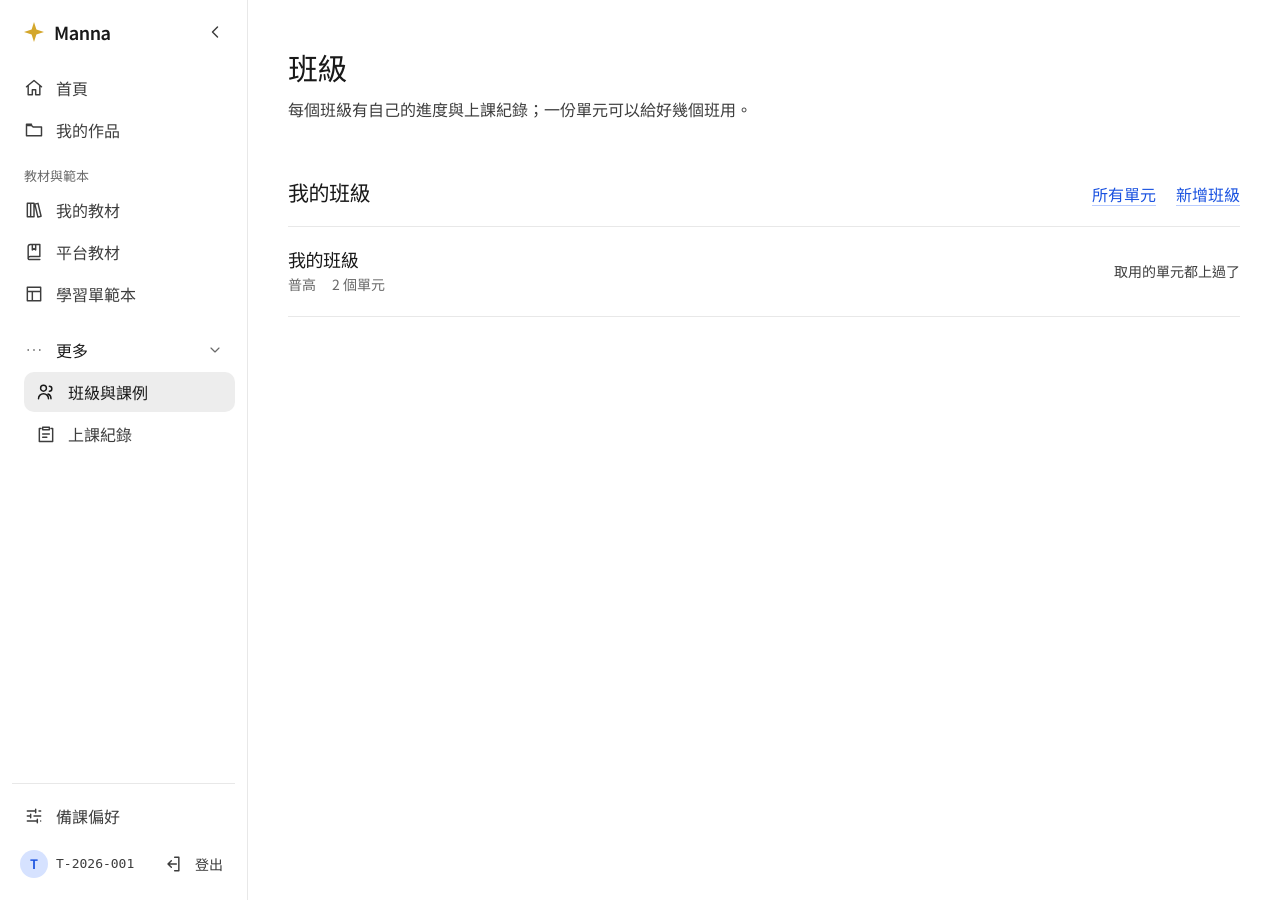
班級 (home) › shows legacy units under 「我的班級」 after the migration
The image size is (1280, 900).
Expected: the list item "2 個單元" is shown, [332, 274, 385, 296]
Click the link "我的班級": [323, 259] box [288, 246, 358, 272]
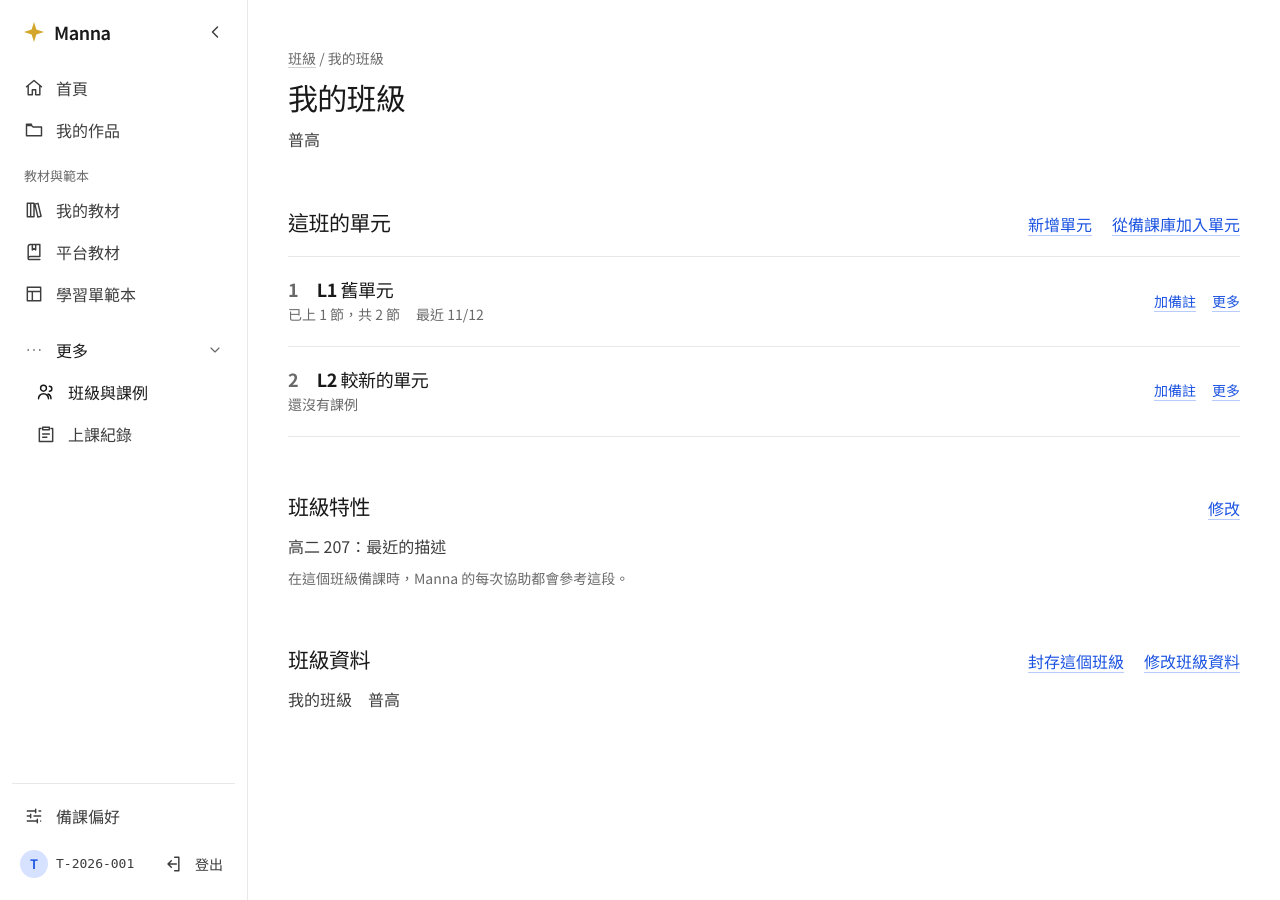
Result: the heading "我的班級" is shown at [288, 75, 405, 119]
Result: the list item "還沒有課例" is shown at [288, 394, 358, 416]
Result: the text "高二 207：最近的描述" is shown at [288, 534, 446, 558]
Click the button "修改": [1224, 508] box [1208, 496, 1240, 520]
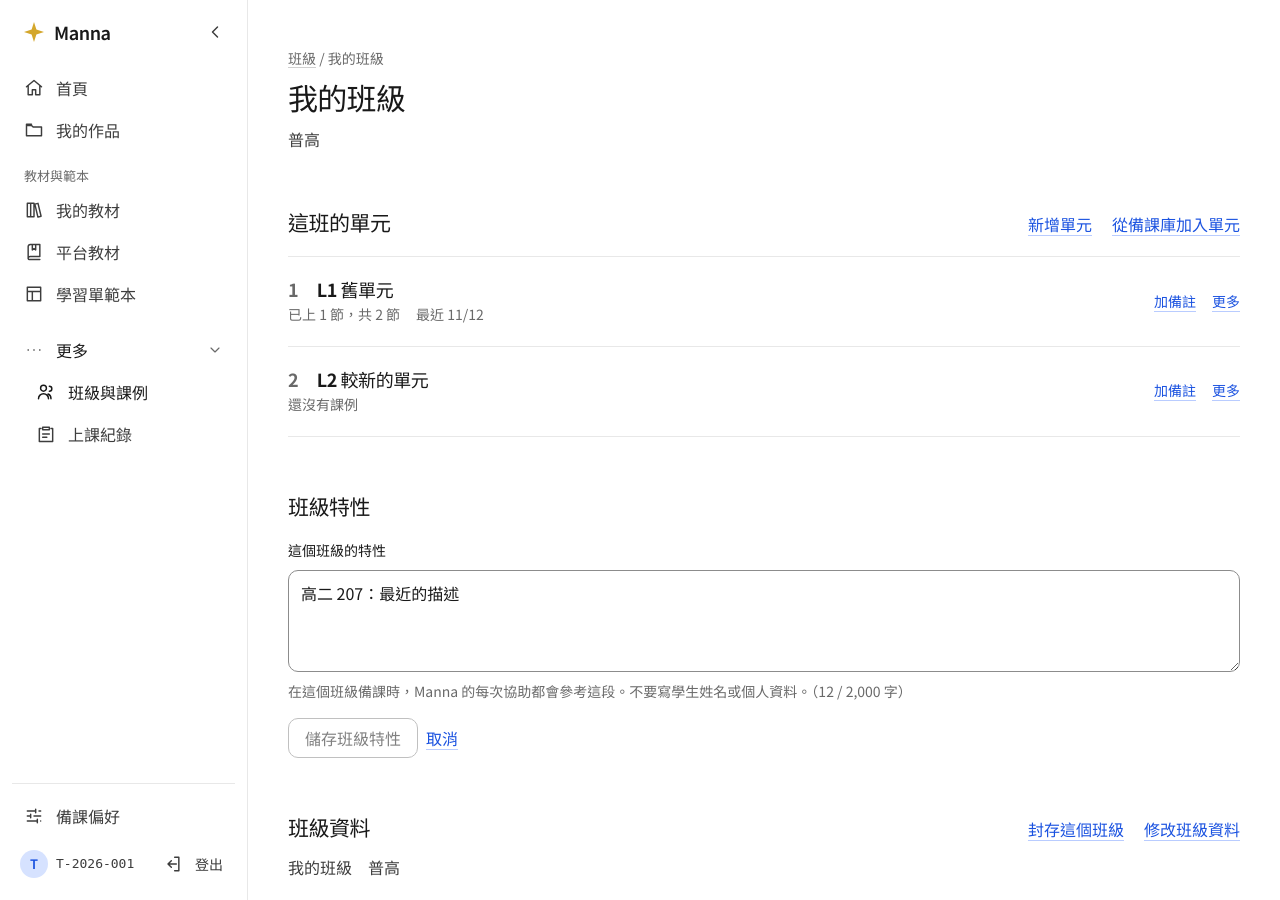
Result: the text box labelled "這個班級的特性" holds "高二 207：最近的描述" at [288, 570, 1240, 672]
